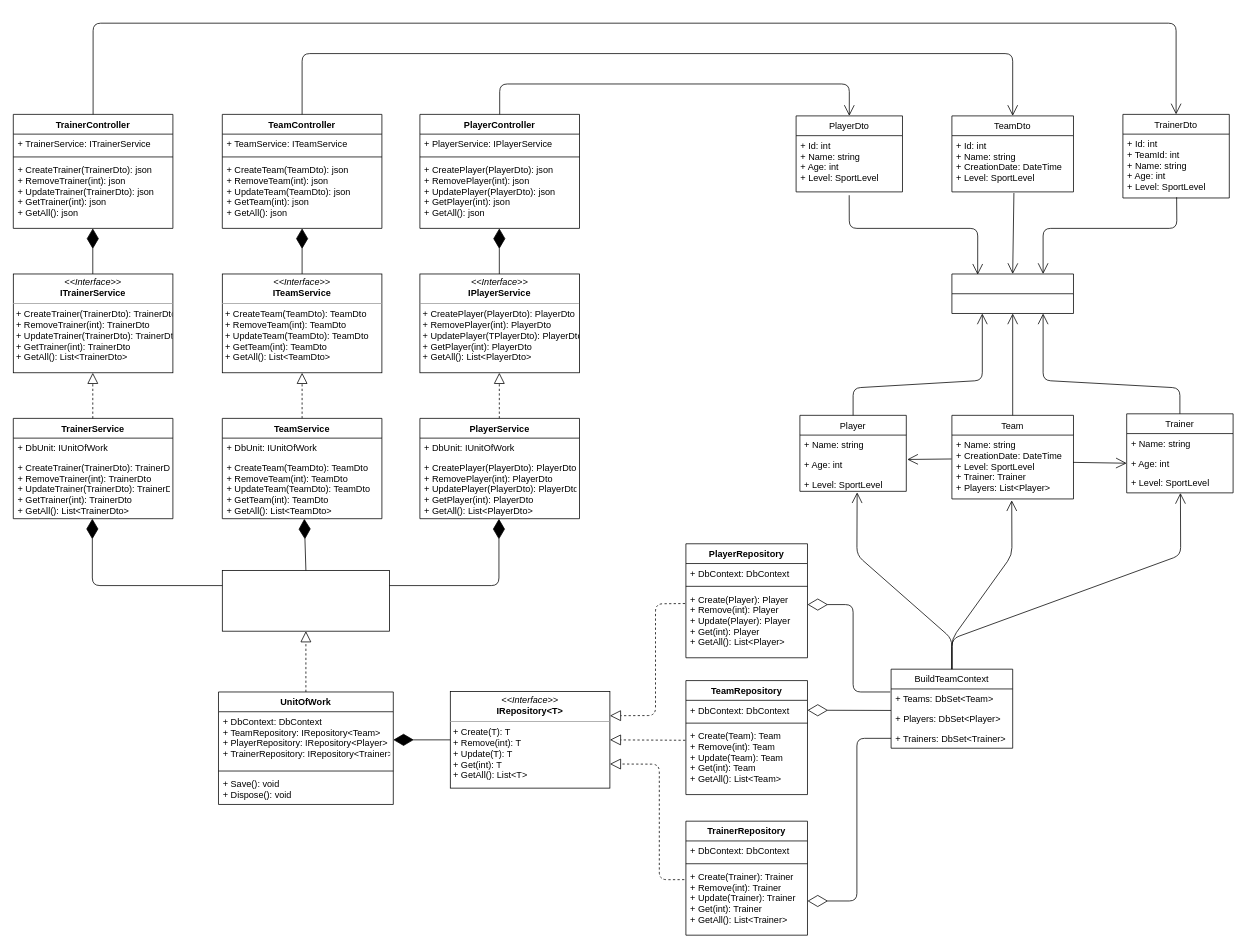
The diagram is 1246 pixels wide and 951 high, and some of its shapes have lost their labels. Each missing label, with the centre of its shape:
<<Interface>> IUnitOfWork + Save(): void + Dispose(): void: (306,600)
enum SportLevel: (1012,293)
